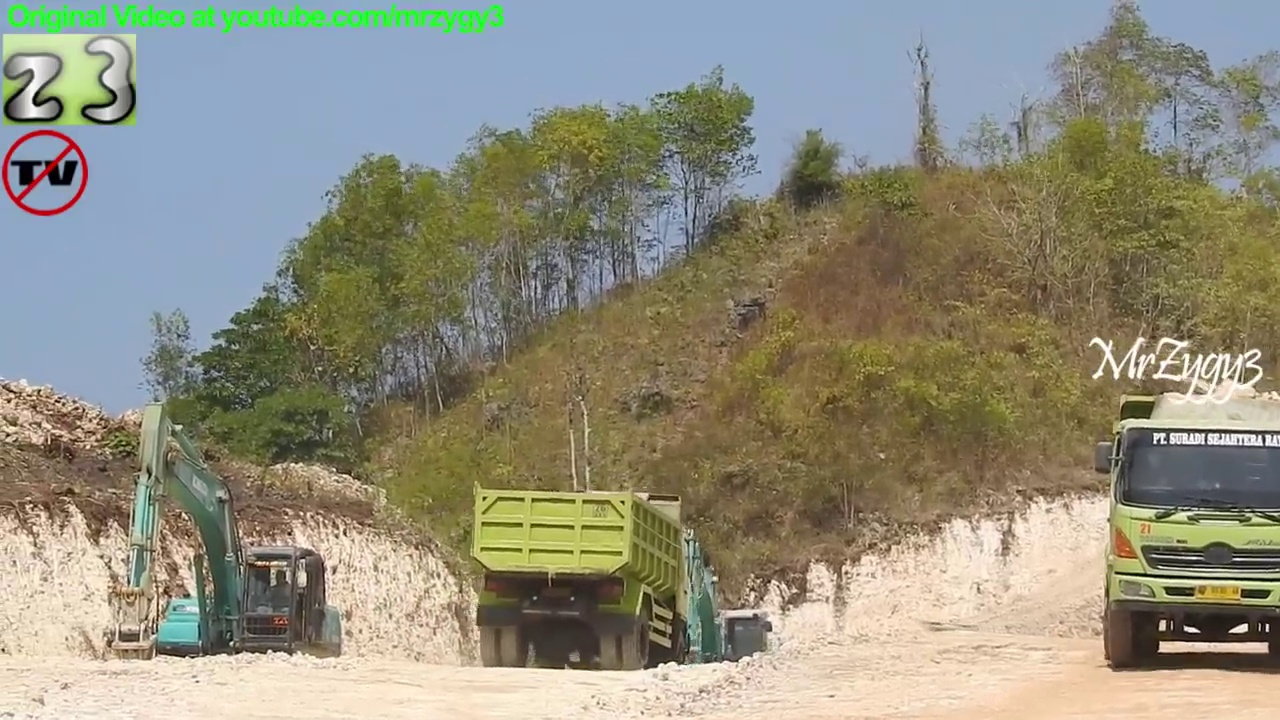excavator: (96, 393, 350, 700), (646, 520, 777, 689)
truck: (1089, 388, 1280, 685), (465, 476, 716, 679)
